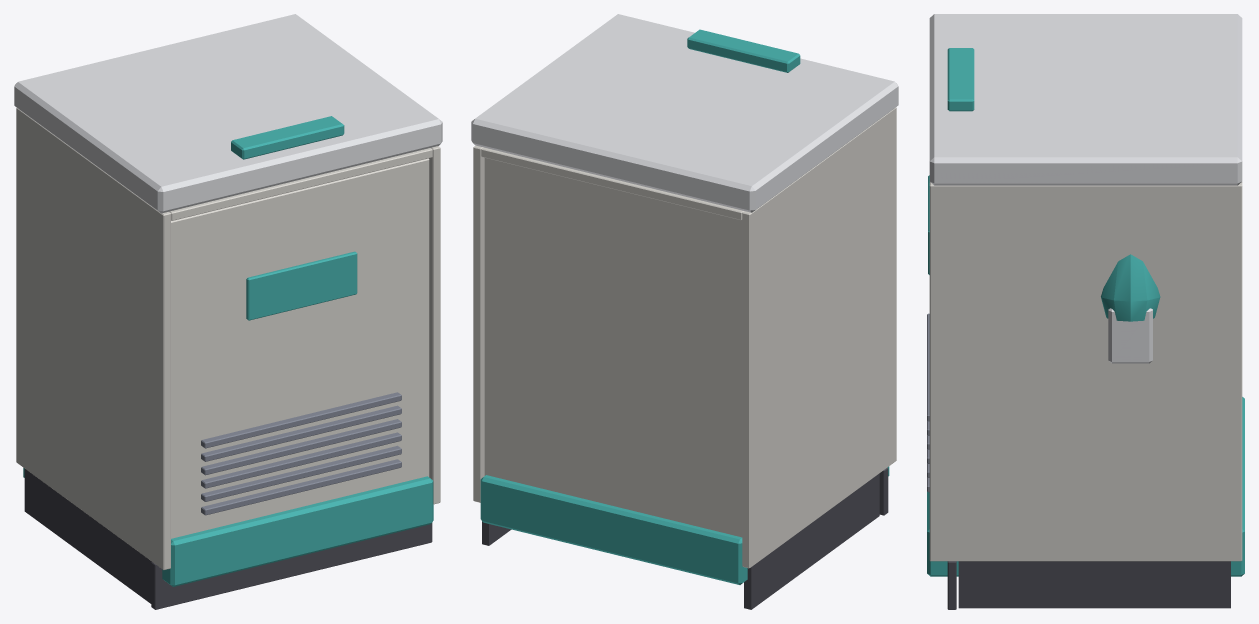
File: cinema-multiplex-and-foyer-ice-machine-0b83fd26__34669.glb
The picture shows the model from 3 angles, left to right: view 1: azimuth 30°, elevation 25°; view 2: azimuth 150°, elevation 25°; view 3: azimuth 270°, elevation 25°; orthographic projection. The views are drawn at different scales.
Visible parts, largest first — view 1: ice-machine, ice-lid/metal, ice-lid/teal; view 2: ice-machine, ice-lid/metal, ice-lid/teal; view 3: ice-machine, ice-lid/metal, ice-lid/teal.
Part boxes in pixels (<box>): ice-machine: <box>16,107,440,609</box>; ice-lid/metal: <box>14,14,442,213</box>; ice-lid/teal: <box>231,116,344,159</box>; ice-machine: <box>473,107,896,609</box>; ice-lid/metal: <box>471,14,898,212</box>; ice-lid/teal: <box>687,29,800,72</box>; ice-machine: <box>927,175,1244,609</box>; ice-lid/metal: <box>929,14,1242,185</box>; ice-lid/teal: <box>947,48,974,111</box>.
Size of the model in its own units: 0.8136 by 1.15 by 0.7121.
